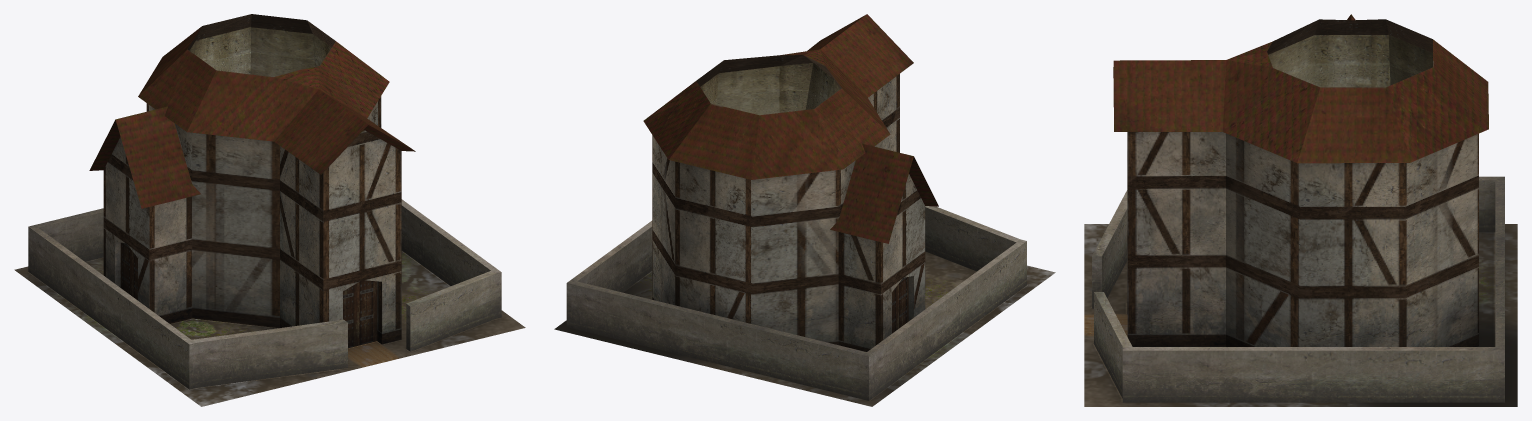
File: Theatre.FBX
3 renders of one model, left to right at view 1: azimuth 30°, elevation 25°; view 2: azimuth 150°, elevation 25°; view 3: azimuth 270°, elevation 25°, orthographic. The views are drawn at different scales.
Visible parts, largest first — view 1: Theatre; view 2: Theatre; view 3: Theatre.
Part boxes in pixels (left/top/right/bottom): Theatre: left=14, top=14, right=525, bottom=406; Theatre: left=554, top=14, right=1055, bottom=406; Theatre: left=1084, top=14, right=1517, bottom=406.
Size of the model in its own units: 11.81 by 8.21 by 11.81.
